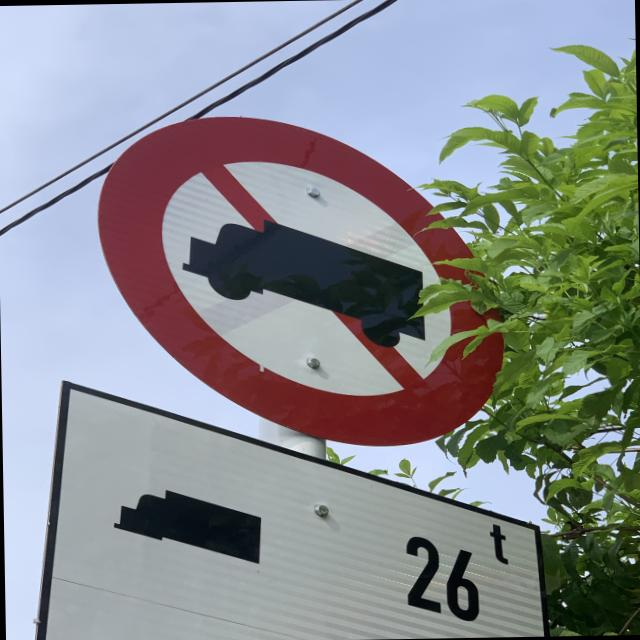Cam_Xe_Tai: (100, 108, 504, 450)
